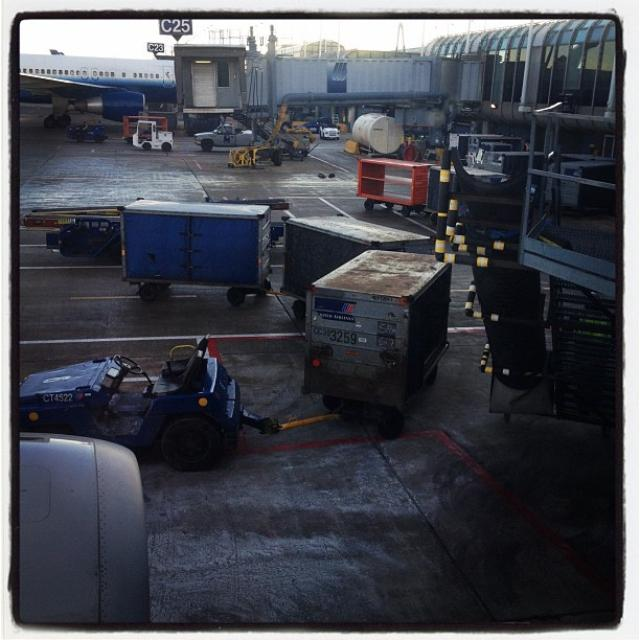Vehicle: (17, 335, 281, 472), (298, 247, 452, 439), (131, 120, 180, 154), (195, 125, 256, 152), (67, 123, 108, 143), (319, 124, 340, 140)
